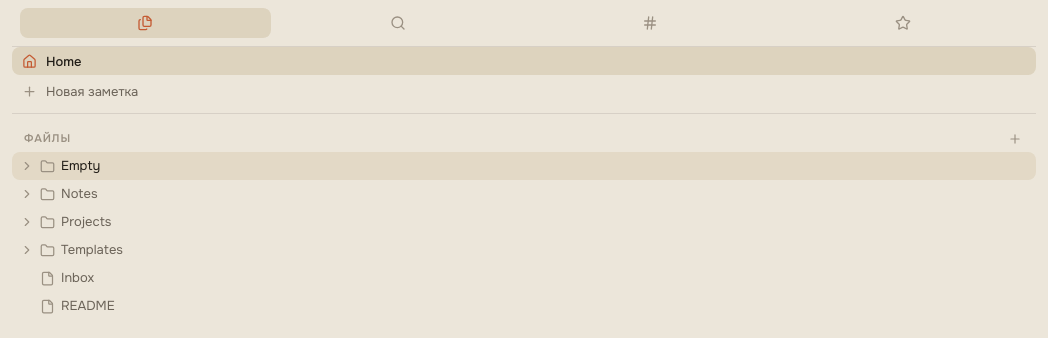
Sidebar (Ф0-7 / DP-2) › нет совпадений → пустое состояние
Click the tab named "Поиск" at point(398, 23), box [272, 8, 523, 38]
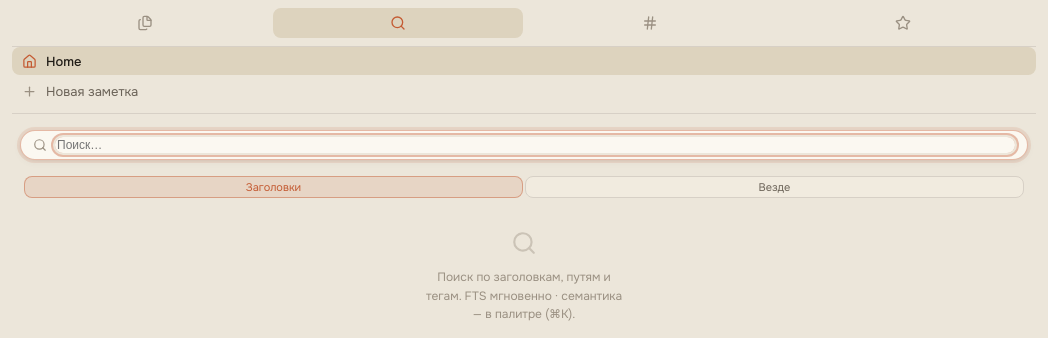
Type "zzzнет" into the field named "Поиск по vault" at point(535, 145), box [55, 137, 1015, 153]
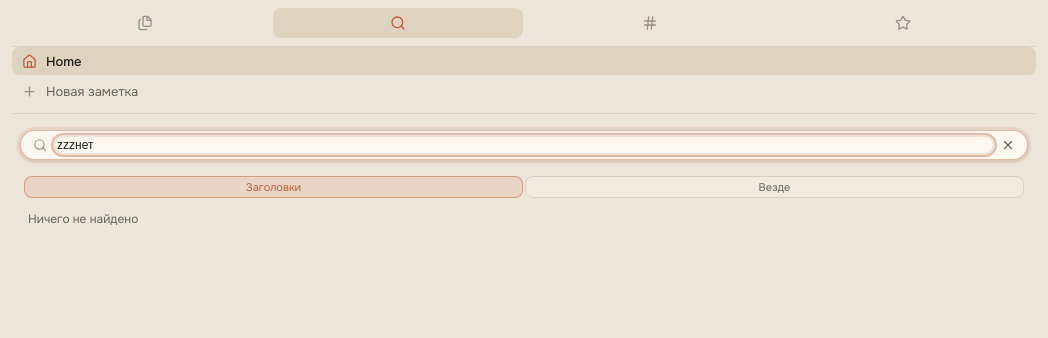
Expected: the list item "Ничего не найдено" is shown, [28, 211, 138, 227]
